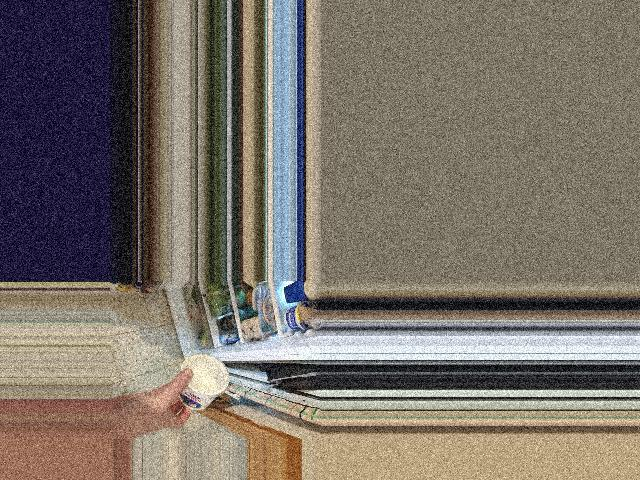cotage: (176, 357, 228, 412)
